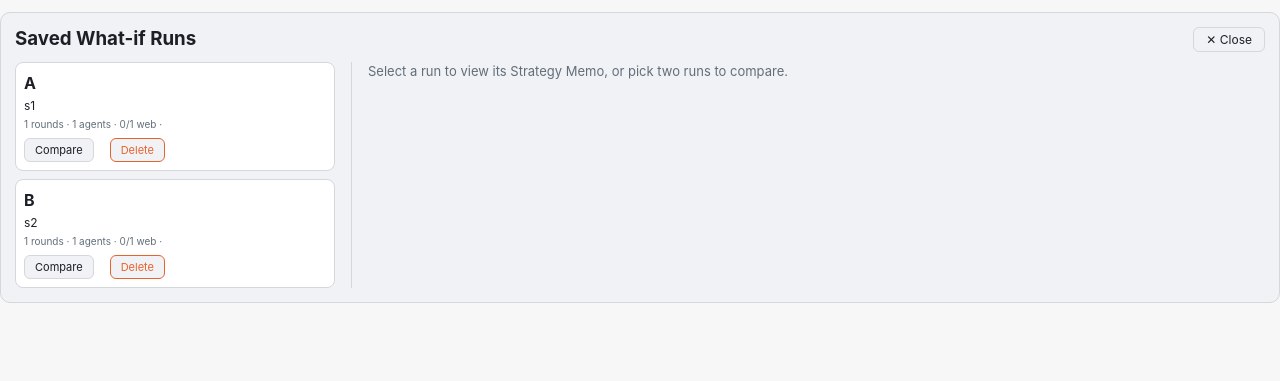
Test: SavedRunsPanel › opens detail and Back to list returns to hint
Click the text "s1". click: x=30, y=106
box: [24,98,35,113]
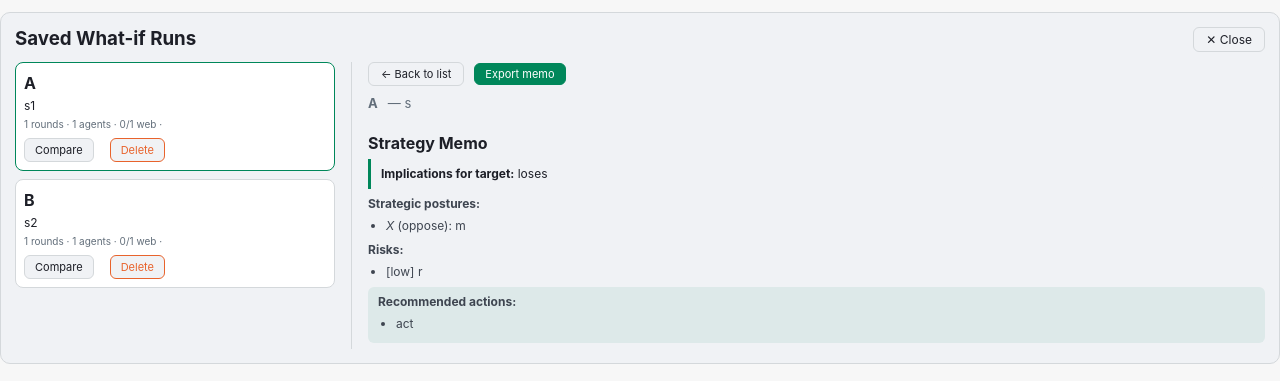
Expected: the button "← Back to list" is shown
Click the button "← Back to list". click: x=416, y=74
box: [368,62,464,86]
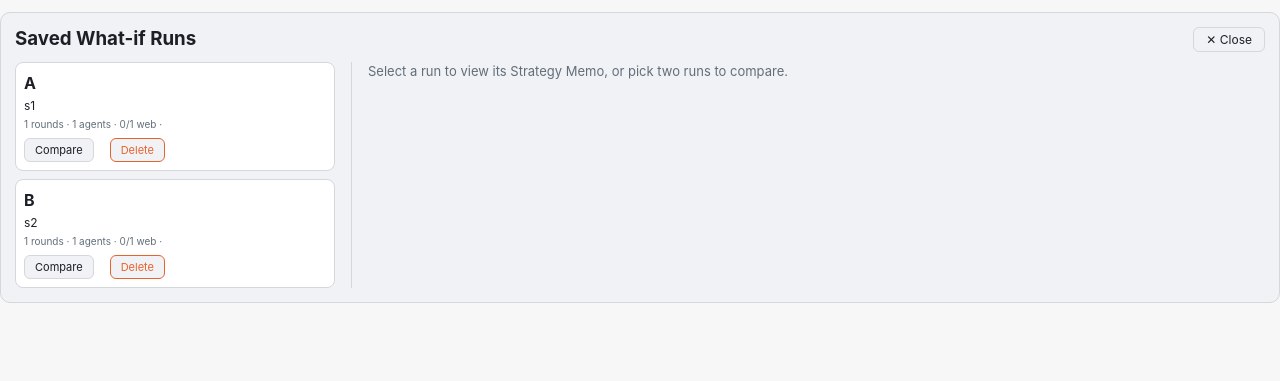
Expected: the text "Select a run to view" is shown, [368,63,788,79]
